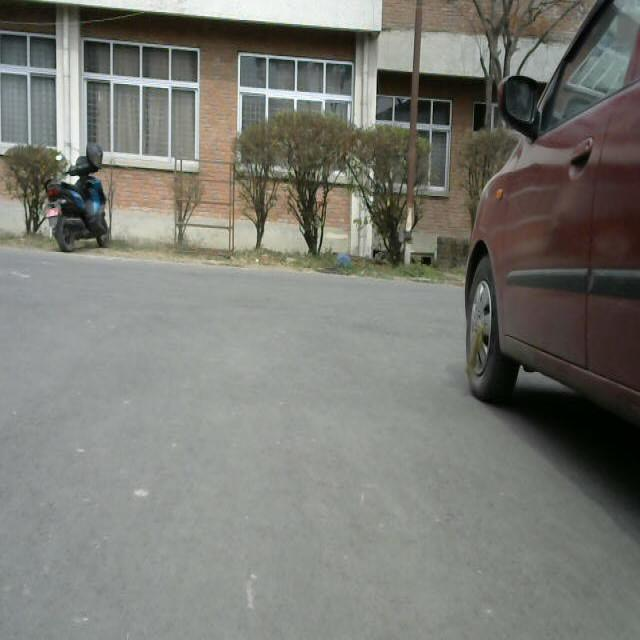Bike: (43, 146, 111, 259)
Buildings: (2, 3, 362, 274)
Car: (470, 0, 640, 463)
Road: (9, 267, 460, 636)
trees: (231, 108, 446, 262), (0, 145, 67, 230)
